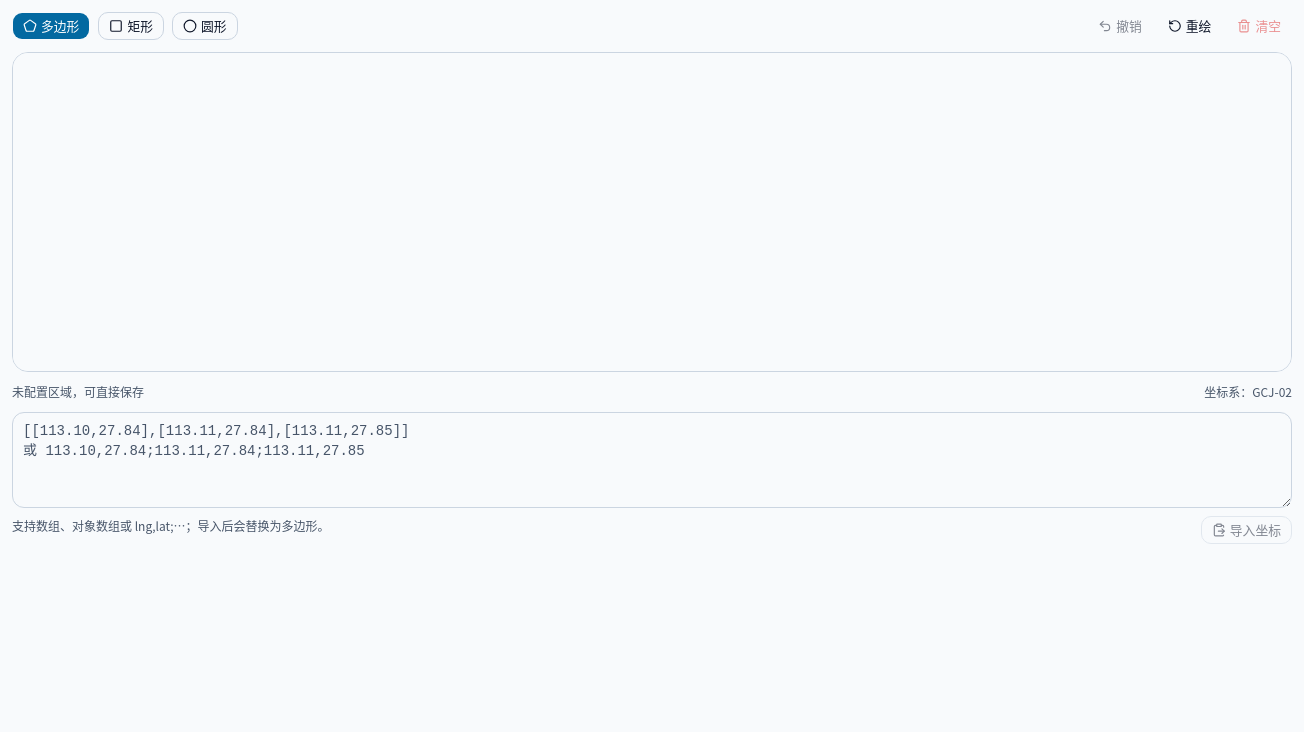
Test case: AMapGeometryEditor drawing initialization › allows Escape to cancel the automatic drawing and redraw to restart it
Expected: the text "正在绘制" is not shown
Click the button "重绘": x=1190, y=26 [1157,12,1222,40]
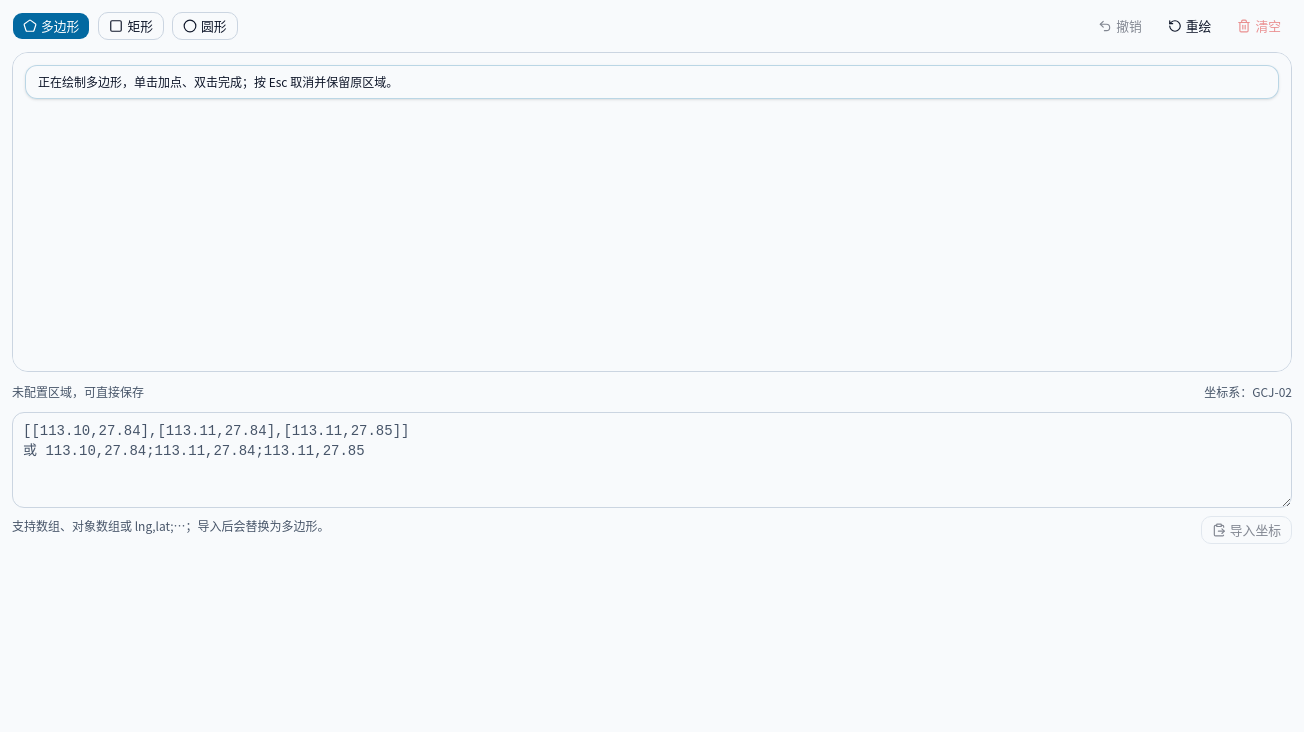
Result: the text "正在绘制多边形" is shown at [38,73,398,90]
